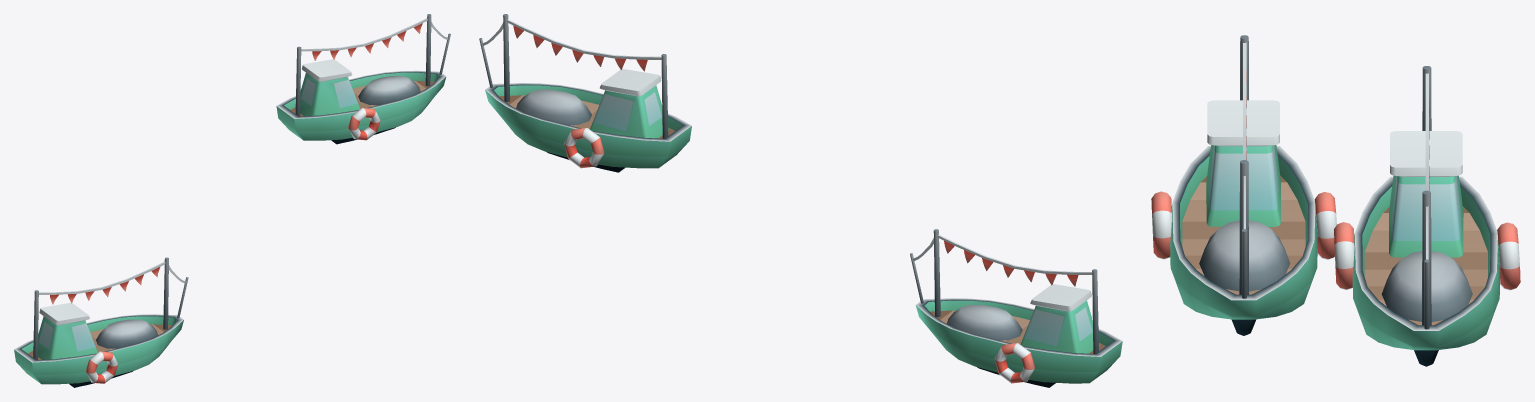
3 renders of one model, left to right at view 1: azimuth 30°, elevation 25°; view 2: azimuth 150°, elevation 25°; view 3: azimuth 270°, elevation 25°, orthographic. The views are drawn at different scales.
Parts seen in each view (by area): view 1: Boat.014, Boat.015; view 2: Boat.015, Boat.014; view 3: Boat.015, Boat.014.
Part boxes in pixels (x1=…): Boat.014: x1=14, y1=257, x2=188, y2=387; Boat.015: x1=276, y1=14, x2=450, y2=144; Boat.015: x1=479, y1=14, x2=691, y2=172; Boat.014: x1=910, y1=229, x2=1122, y2=387; Boat.015: x1=1334, y1=66, x2=1520, y2=366; Boat.014: x1=1151, y1=35, x2=1336, y2=335.
Size of what is drawn, in the model's own units: 17.01 by 8.32 by 5.74.
Materials: 1 (1 with a texture image).
